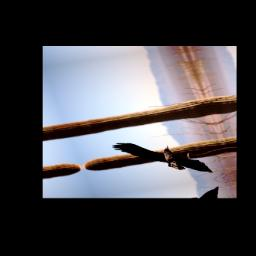Crow: (109, 131, 215, 187)
